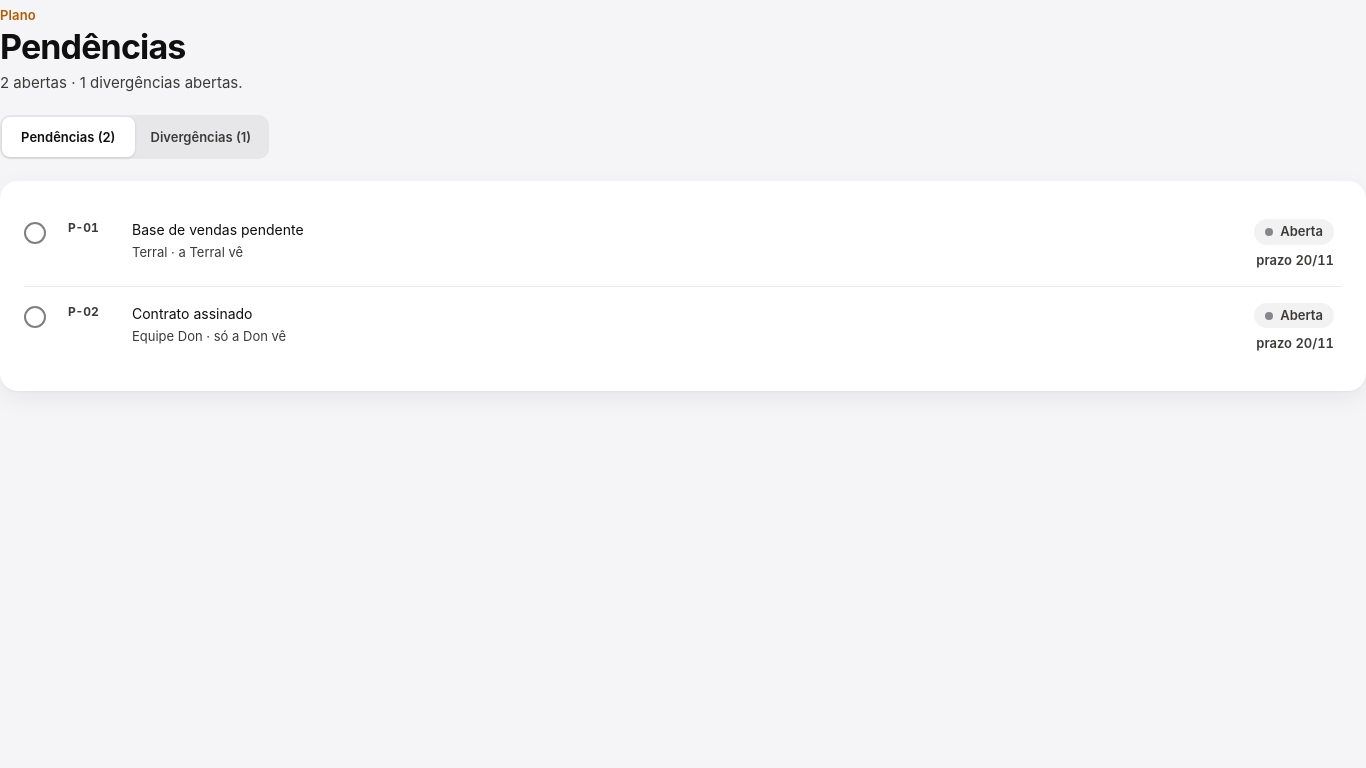
Test case: Pendências › a failed second write leaves nothing half-saved: owner_raw goes first and is put back
Click the button with aria-label "Editar P-02" at (83,311), box [60,291,1342,365]
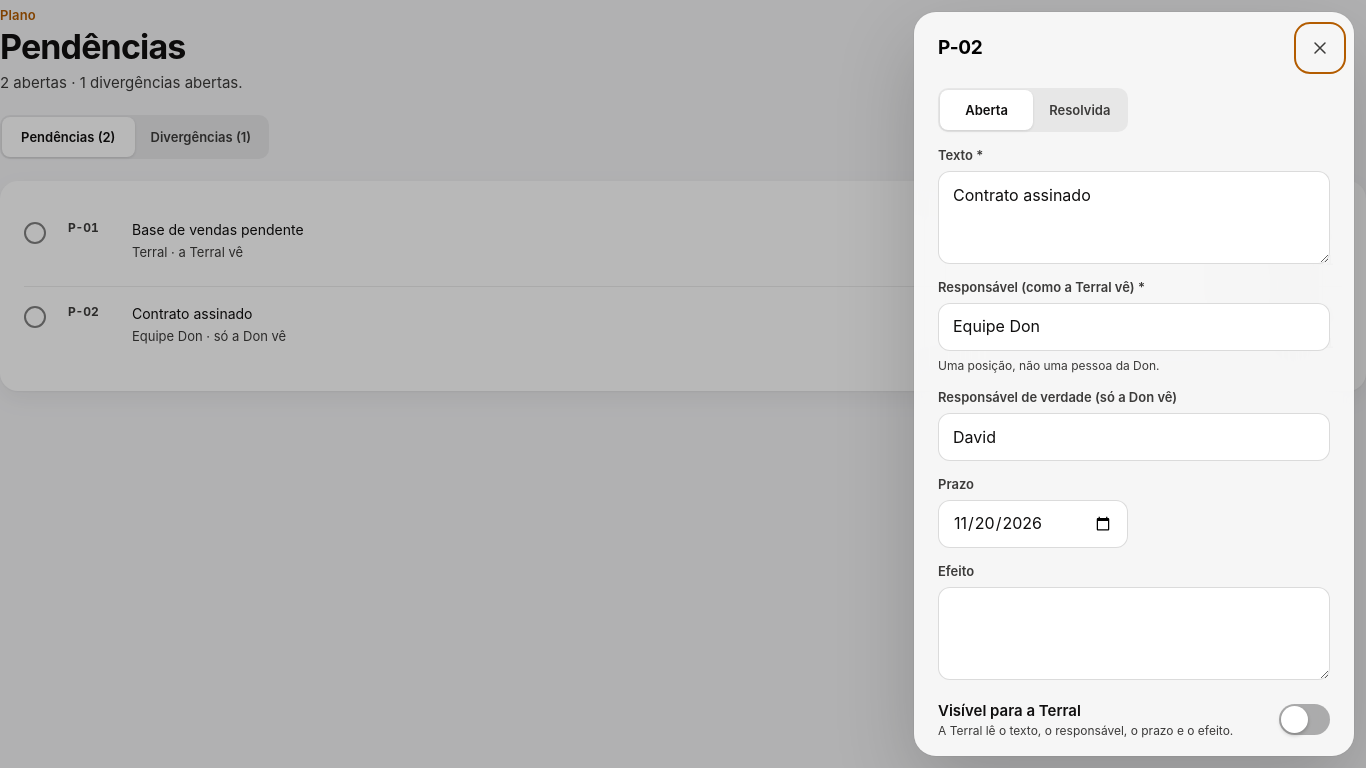
Replace the text in the field labelled "Responsável de verdade (só a Don vê)" with "Roberto" at (1134,437), box [938,413,1330,461]
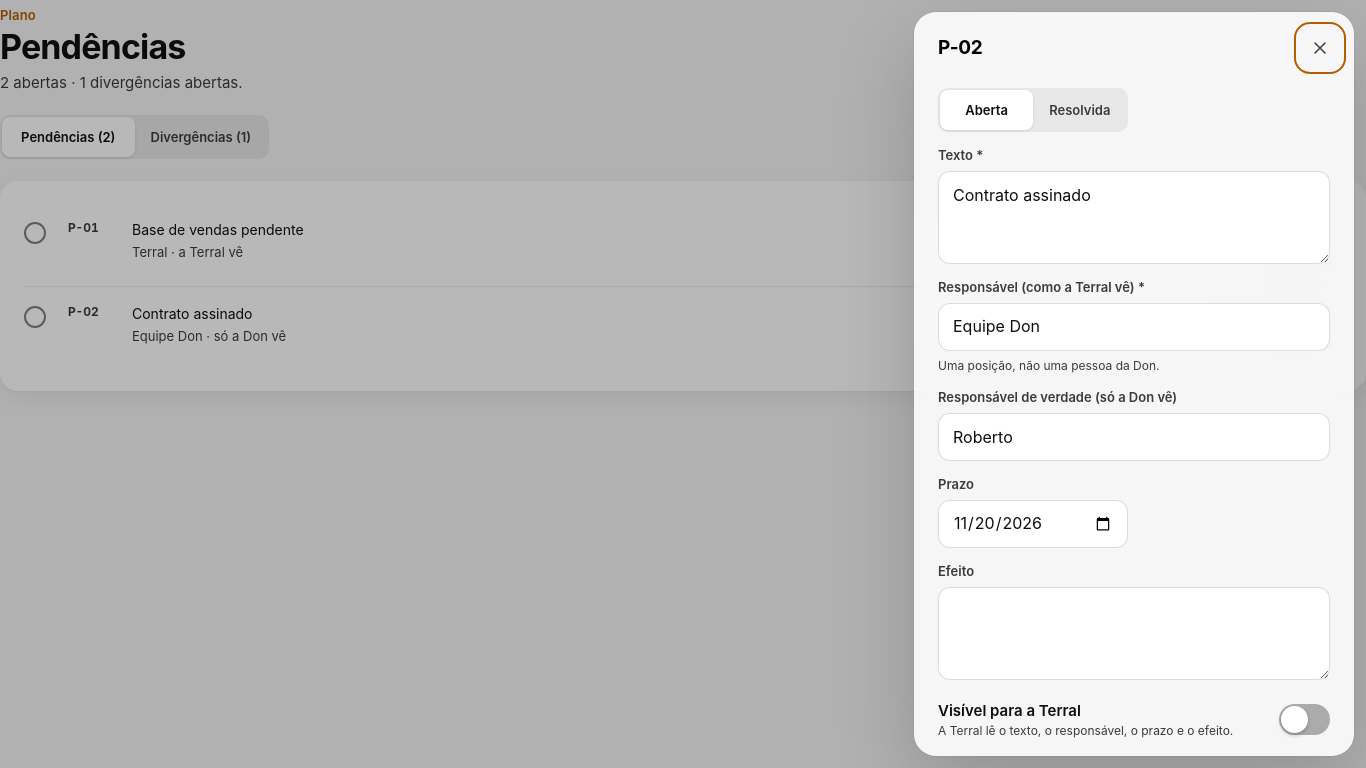
Replace the text in the text box labelled "Texto *" with "Texto novo" at (1134,217), box [938,171,1330,264]
(page scrolled)
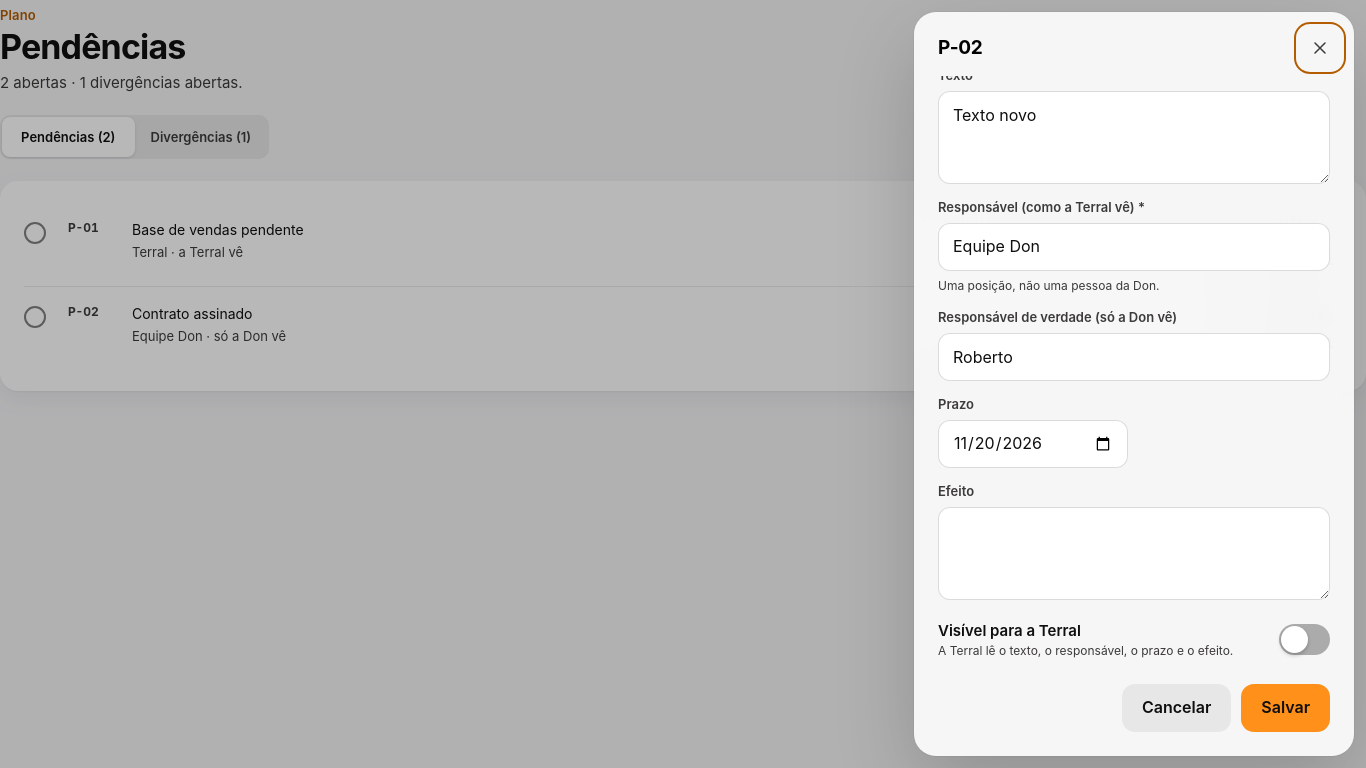
Click the button "Salvar" at (1286,708), box [1241,684,1330,732]
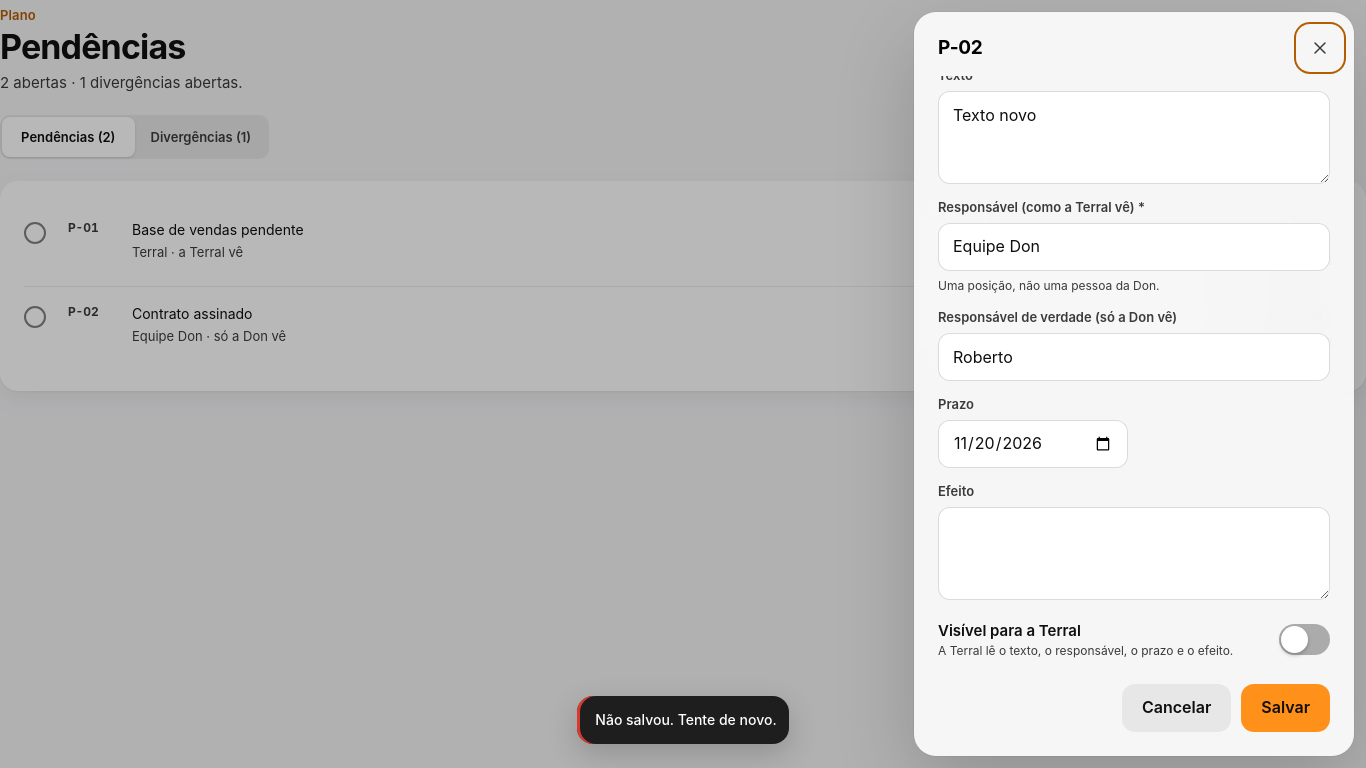
expect the button "Salvar" is enabled: met, box [1241,684,1330,732]
expect the text "Não salvou. Tente de novo." is shown: met, box [595,711,777,728]
